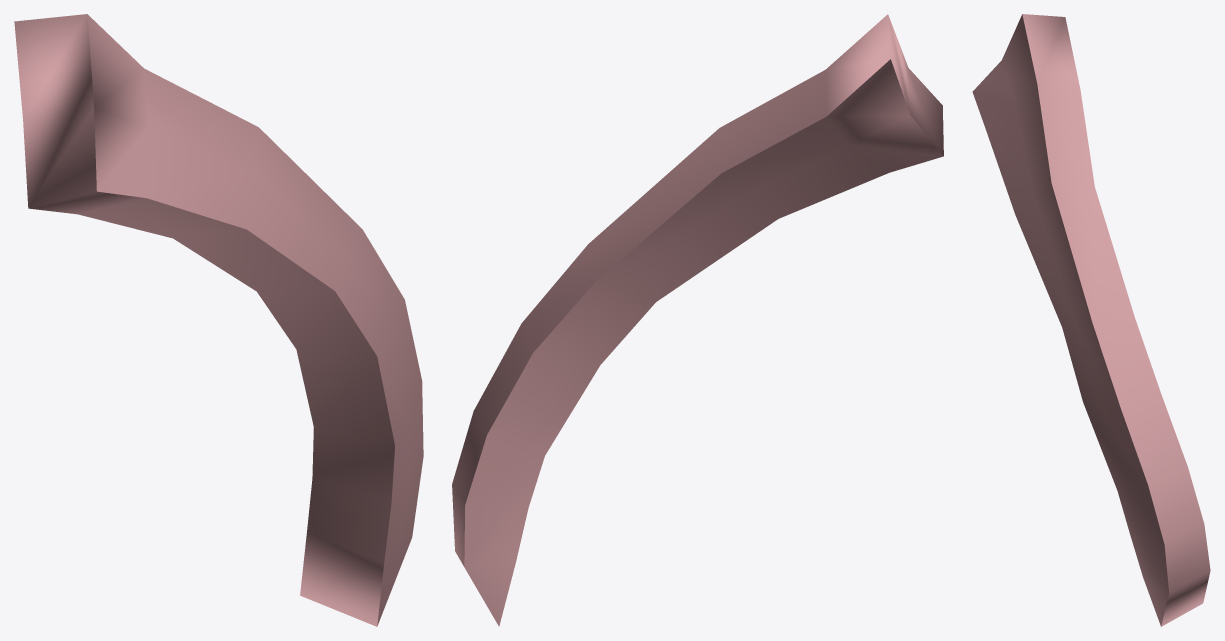
The picture shows the model from 3 angles, left to right: view 1: azimuth 30°, elevation 25°; view 2: azimuth 150°, elevation 25°; view 3: azimuth 270°, elevation 25°; orthographic projection. The views are drawn at different scales.
Visible parts, largest first — view 1: ZA_4f3eb0752732ad83; view 2: ZA_4f3eb0752732ad83; view 3: ZA_4f3eb0752732ad83.
Part boxes in pixels (x1,y1,x2,y2): ZA_4f3eb0752732ad83: [14, 14, 423, 626]; ZA_4f3eb0752732ad83: [452, 14, 943, 626]; ZA_4f3eb0752732ad83: [972, 14, 1210, 626].
Bounding box in the file's own units: 0.0207 × 0.0304 × 0.0133.
